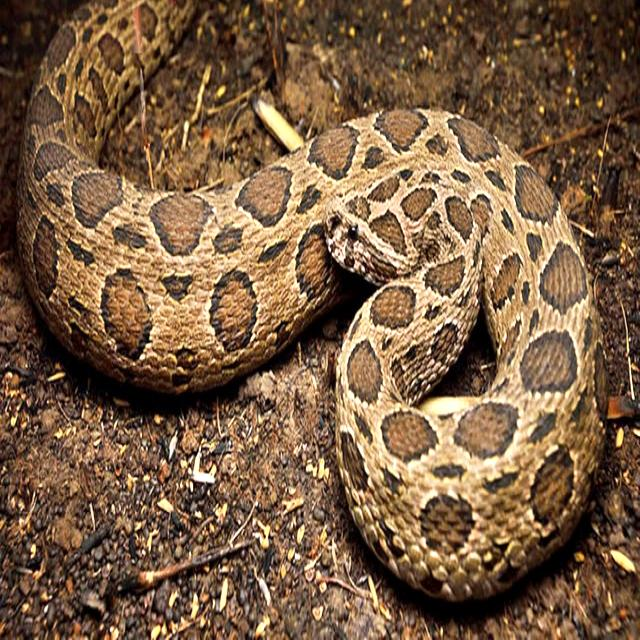Daboia siamensis: (17, 0, 606, 600)
